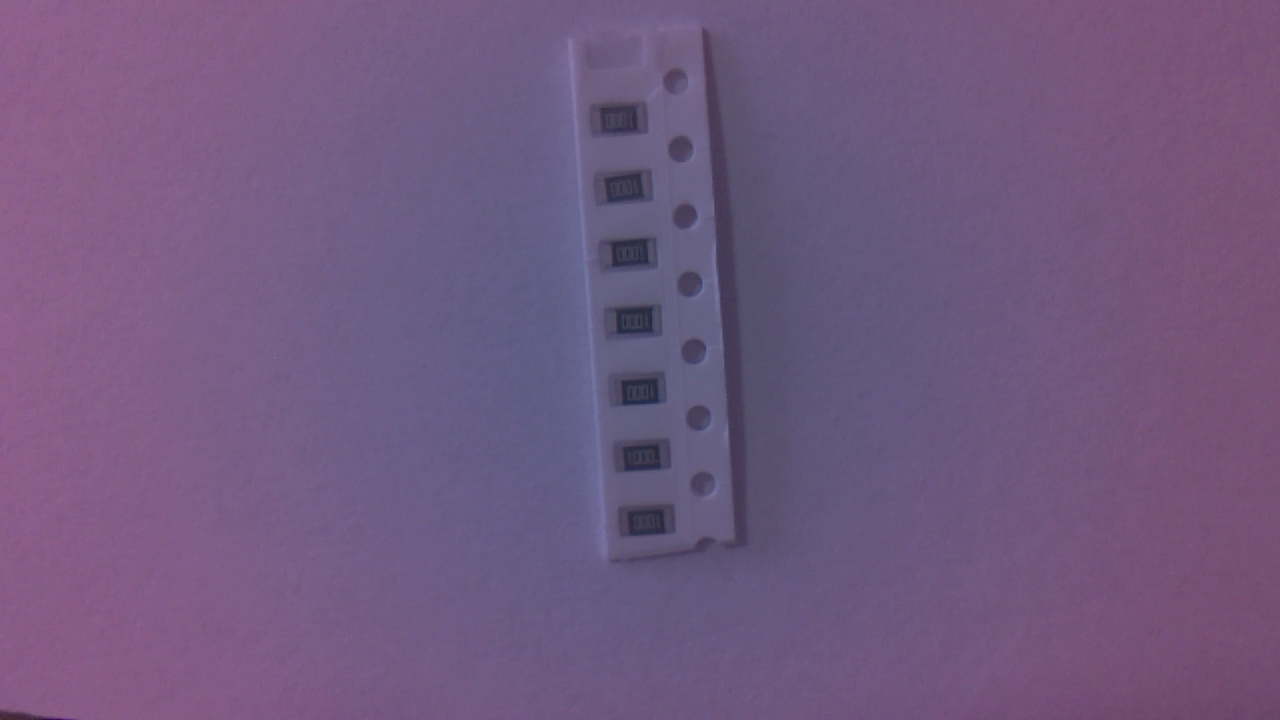Resistor: (593, 108, 655, 142), (598, 175, 659, 208), (622, 509, 681, 543), (618, 442, 675, 477), (610, 311, 668, 345), (606, 244, 665, 275), (616, 379, 671, 411)
